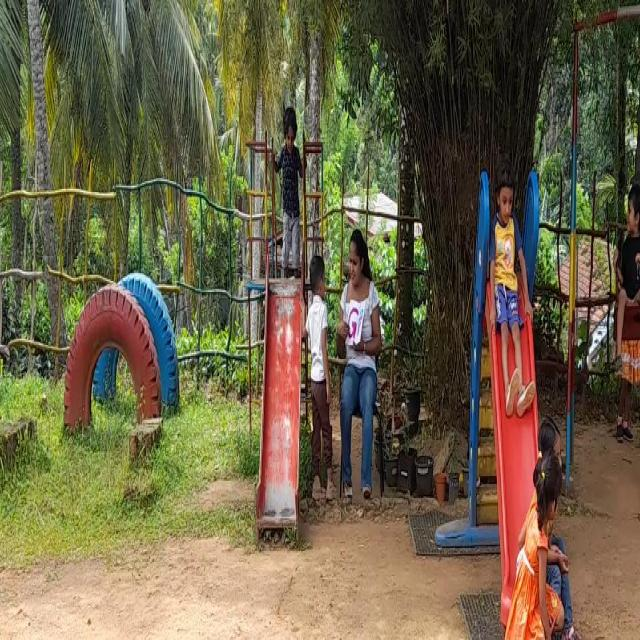adult: (338, 222, 397, 529)
child: (492, 158, 532, 428), (305, 251, 336, 511), (520, 466, 557, 640), (612, 180, 640, 374), (280, 113, 302, 282)
